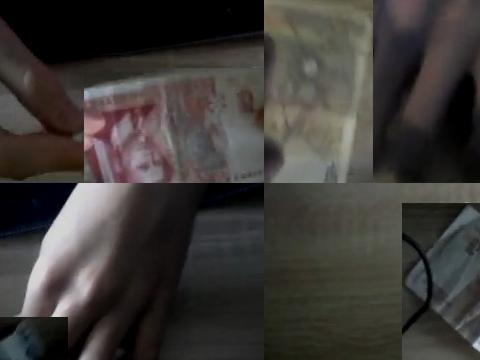10leva: (264, 0, 373, 183)
5leva: (84, 68, 264, 183), (402, 203, 480, 355)
